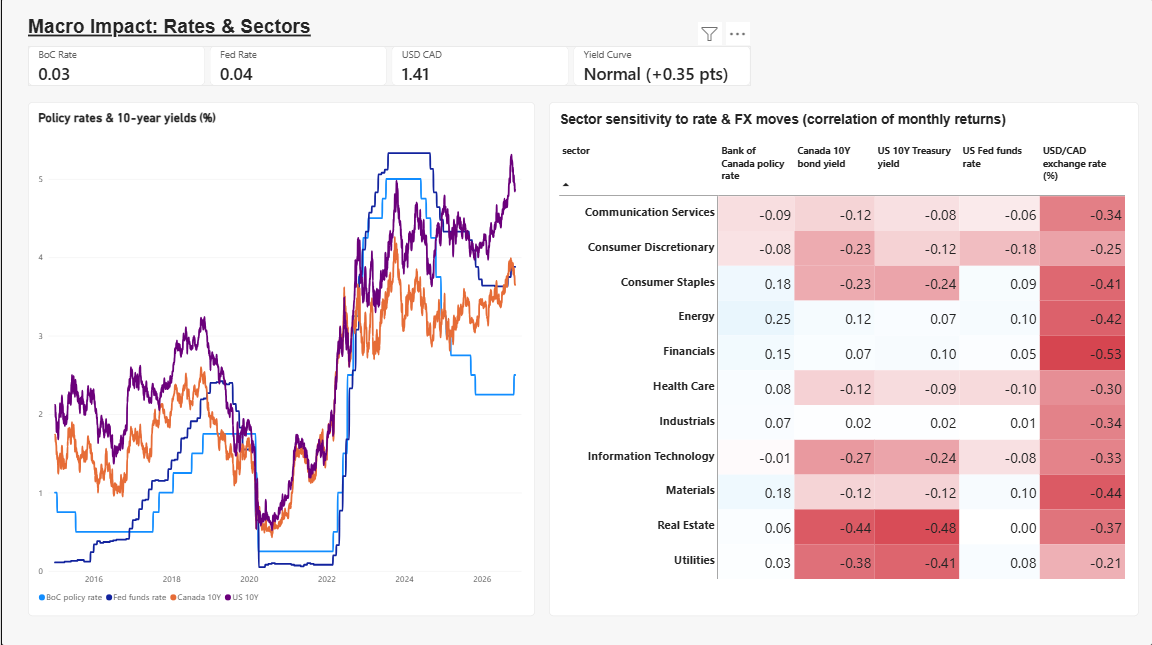

Layout of this report page (visuals, bound fields, positions):
{"tool":"powerbi","page":{"name":"Macro Impact","canvas":[1920,1080],"ordinal":2},"visuals":[{"type":"cardVisual","fields":{"Data":["_Measures.BoC Rate","_Measures.Fed Rate","_Measures.USD CAD","_Measures.Yield Curve"]},"box":[45,80,1205,66.7],"z":0},{"type":"textbox","box":[45,30,503.3,50],"z":1000},{"type":"lineChart","title":"Policy rates & 10-year yields (%)","fields":{"Category":["dim_date.calendar_date"],"Y":["Sum(fct_macro_daily.boc_policy_rate)","Sum(fct_macro_daily.fed_funds_rate)","Sum(fct_macro_daily.cad_10y_yield)","Sum(fct_macro_daily.us_10y_yield)"]},"box":[45,173.3,845,856.7],"z":2000},{"type":"pivotTable","title":"Sector sensitivity to rate & FX moves (correlation of monthly returns)","fields":{"Columns":["mart_rate_sensitivity.factor_label"],"Rows":["mart_rate_sensitivity.sector"],"Values":["Avg(mart_rate_sensitivity.correlation)"]},"box":[913.3,173.3,983.3,856.7],"z":3000}]}

Visuals, with their boxes in screenshot pixels (x1, y1, x2, y2), scaled from the page's 1920x1080 canvas onto the 1152x645 screenshot:
cardVisual - _Measures.BoC Rate x _Measures.Fed Rate: 27/48/750/88
textbox: 27/18/329/48
"Policy rates & 10-year yields (%)" lineChart: 27/103/534/615
"Sector sensitivity to rate & FX moves (correlation of monthly returns)" pivotTable: 548/103/1138/615
